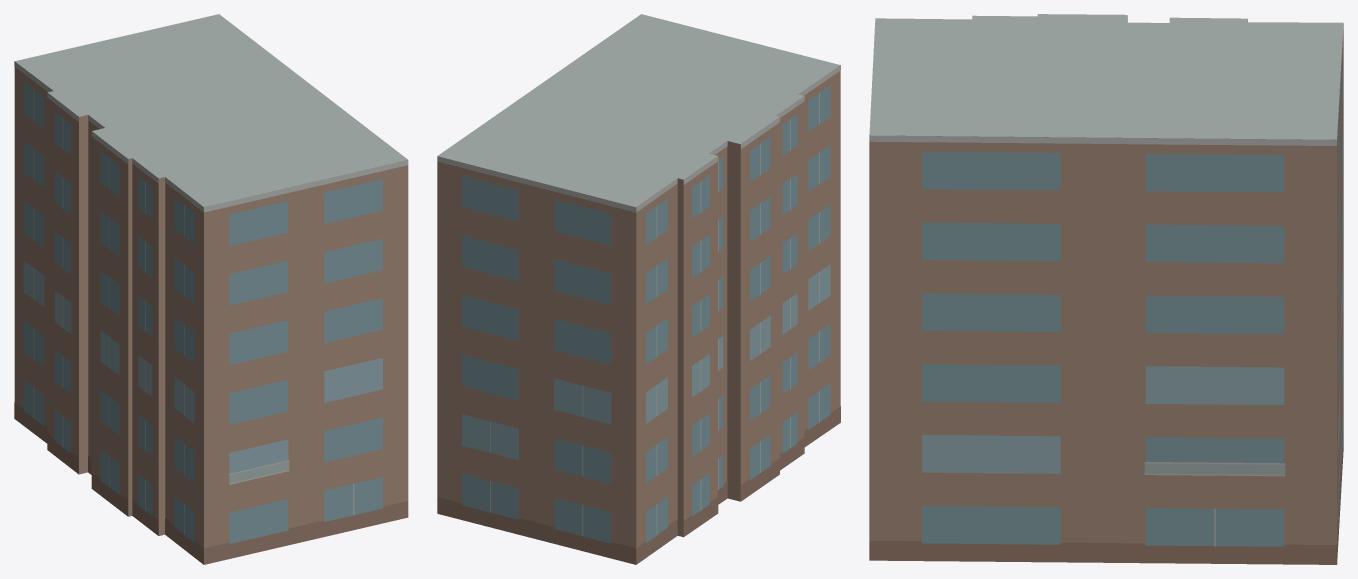
File: survey-upis-32972870.glb
The picture shows the model from 3 angles, left to right: view 1: azimuth 30°, elevation 25°; view 2: azimuth 150°, elevation 25°; view 3: azimuth 270°, elevation 25°; orthographic projection. The views are drawn at different scales.
Parts seen in each view (by area): view 1: survey-upis-32972870.tmp; view 2: survey-upis-32972870.tmp; view 3: survey-upis-32972870.tmp.
Part boxes in pixels (x1=…): survey-upis-32972870.tmp: x1=14, y1=14, x2=408, y2=564; survey-upis-32972870.tmp: x1=437, y1=14, x2=840, y2=564; survey-upis-32972870.tmp: x1=869, y1=14, x2=1343, y2=564.
Bounding box in the file's own units: 10.42 × 16.4 × 16.59.
